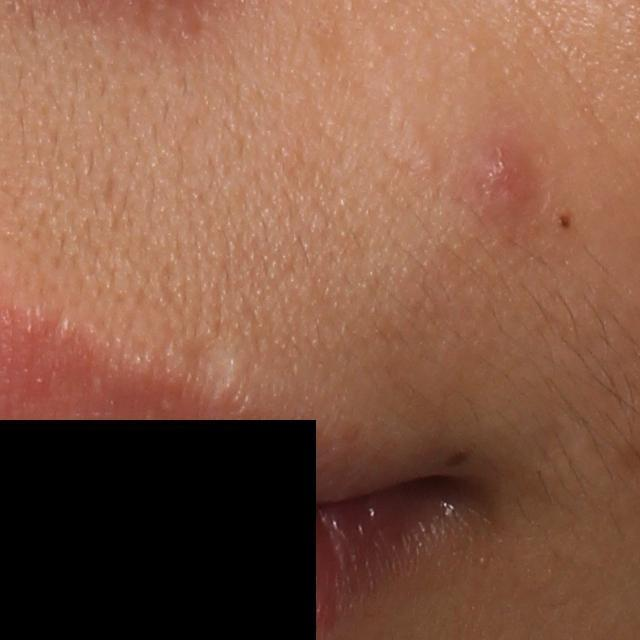nevus: (443, 450, 469, 468), (553, 214, 572, 229)
papule: (462, 144, 544, 224)
